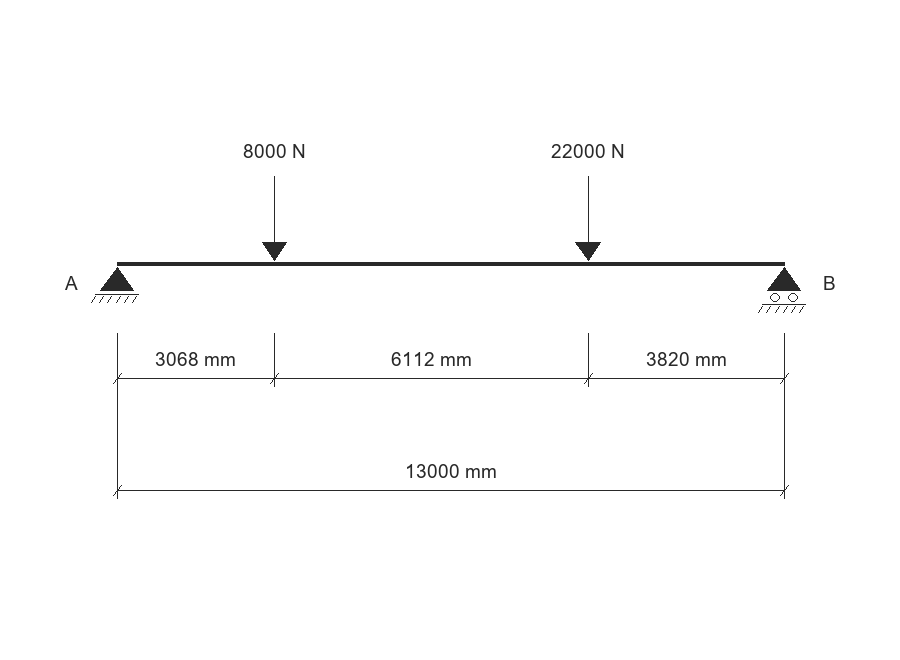pin_support: (91, 267, 139, 303)
point_load: (575, 176, 601, 261), (262, 176, 287, 261)
roller_support: (758, 267, 806, 313)
